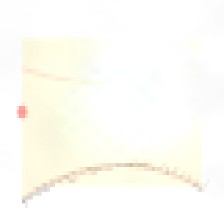foreign_body_visible: (88, 123, 113, 143)
